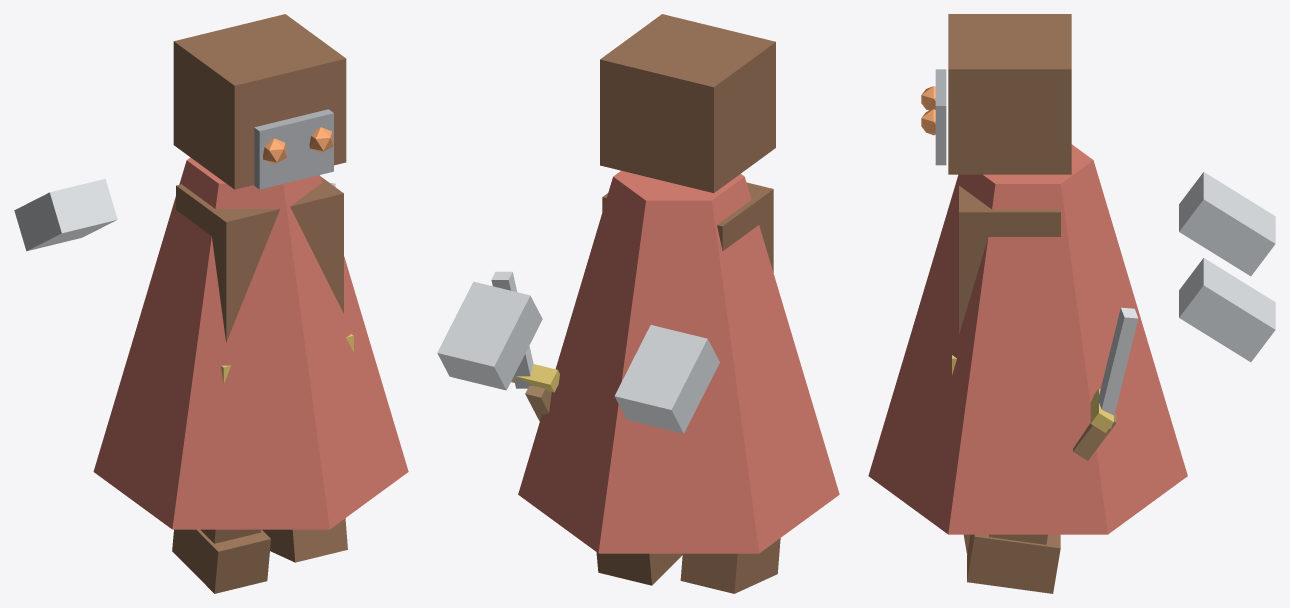
Rendered from npcpose_raider_attack_00.glb.
The picture shows the model from 3 angles, left to right: view 1: azimuth 30°, elevation 25°; view 2: azimuth 150°, elevation 25°; view 3: azimuth 270°, elevation 25°; orthographic projection. The views are drawn at different scales.
Visible parts, largest first — view 1: npcpose; view 2: npcpose; view 3: npcpose.
Part boxes in pixels (x1,y1,x2,y2): npcpose: [14, 14, 408, 593]; npcpose: [437, 14, 839, 593]; npcpose: [868, 14, 1275, 593].
Bounding box in the file's own units: 0.8111 × 1.58 × 1.12.
